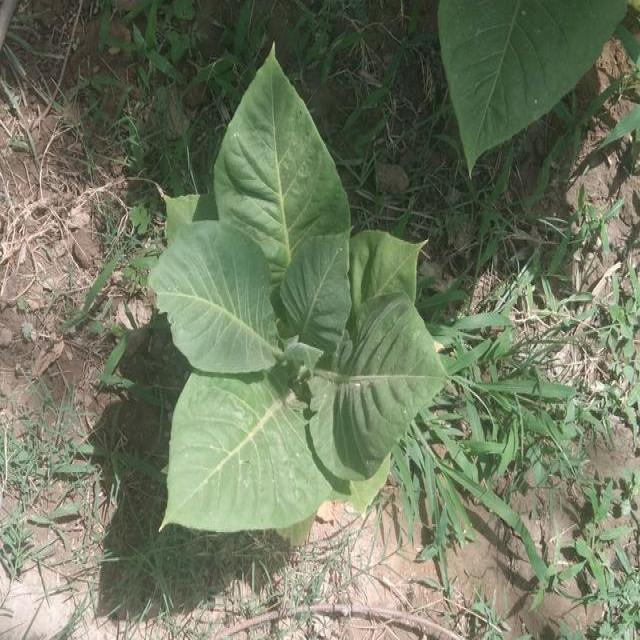crop: (144, 39, 452, 546)
